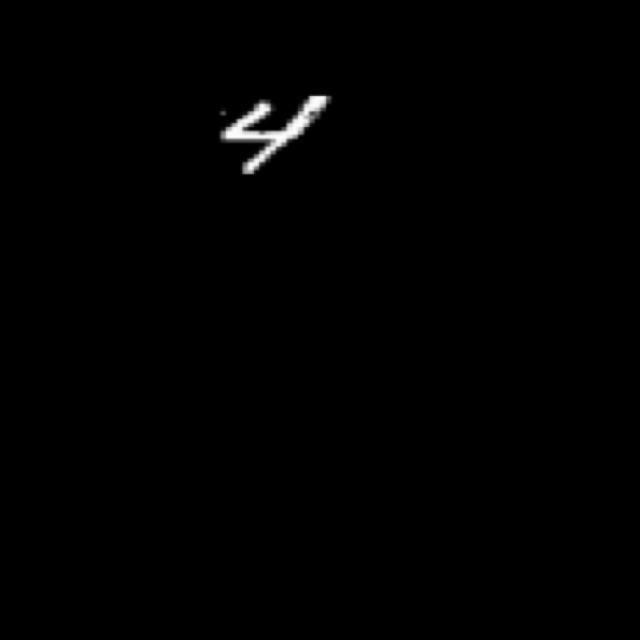four -4-: (206, 82, 348, 187)
